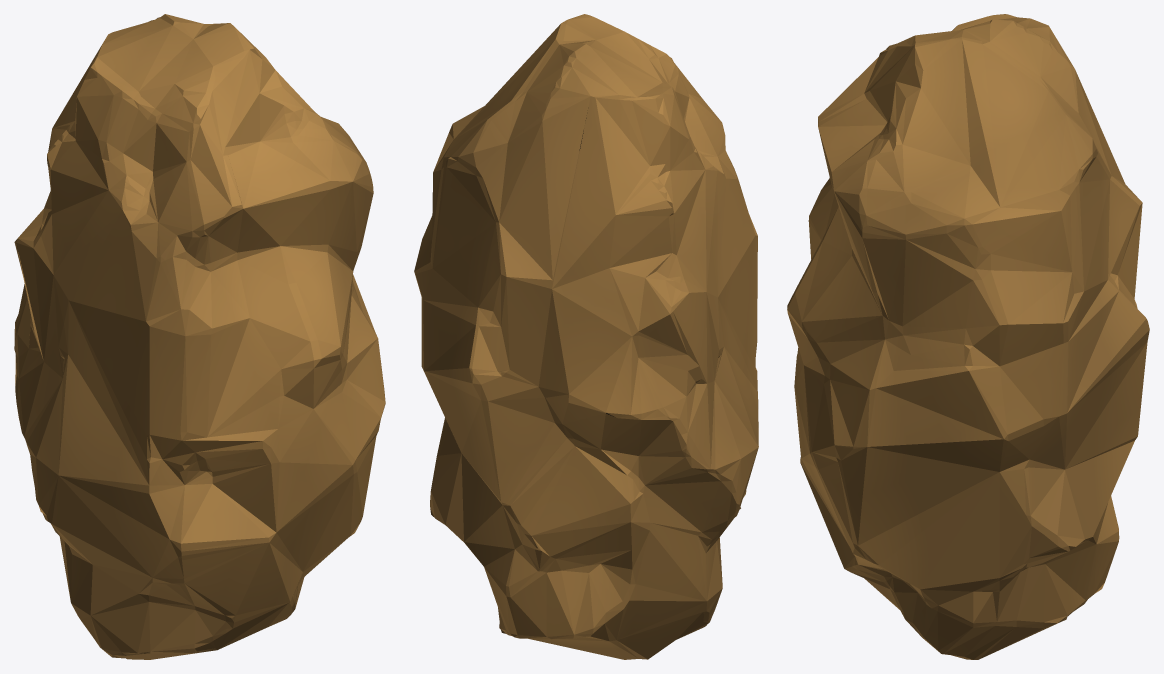
File: Rock_05.fbx
3 renders of one model, left to right at view 1: azimuth 30°, elevation 25°; view 2: azimuth 150°, elevation 25°; view 3: azimuth 270°, elevation 25°, orthographic.
Visible parts, largest first — view 1: Rock_05; view 2: Rock_05; view 3: Rock_05.
Part boxes in pixels (bbox=[...]): Rock_05: bbox=[14, 14, 385, 659]; Rock_05: bbox=[414, 14, 758, 659]; Rock_05: bbox=[787, 14, 1149, 659].
Bounding box in the file's own units: 403 × 771 × 411.
1 material, 1 textured.
